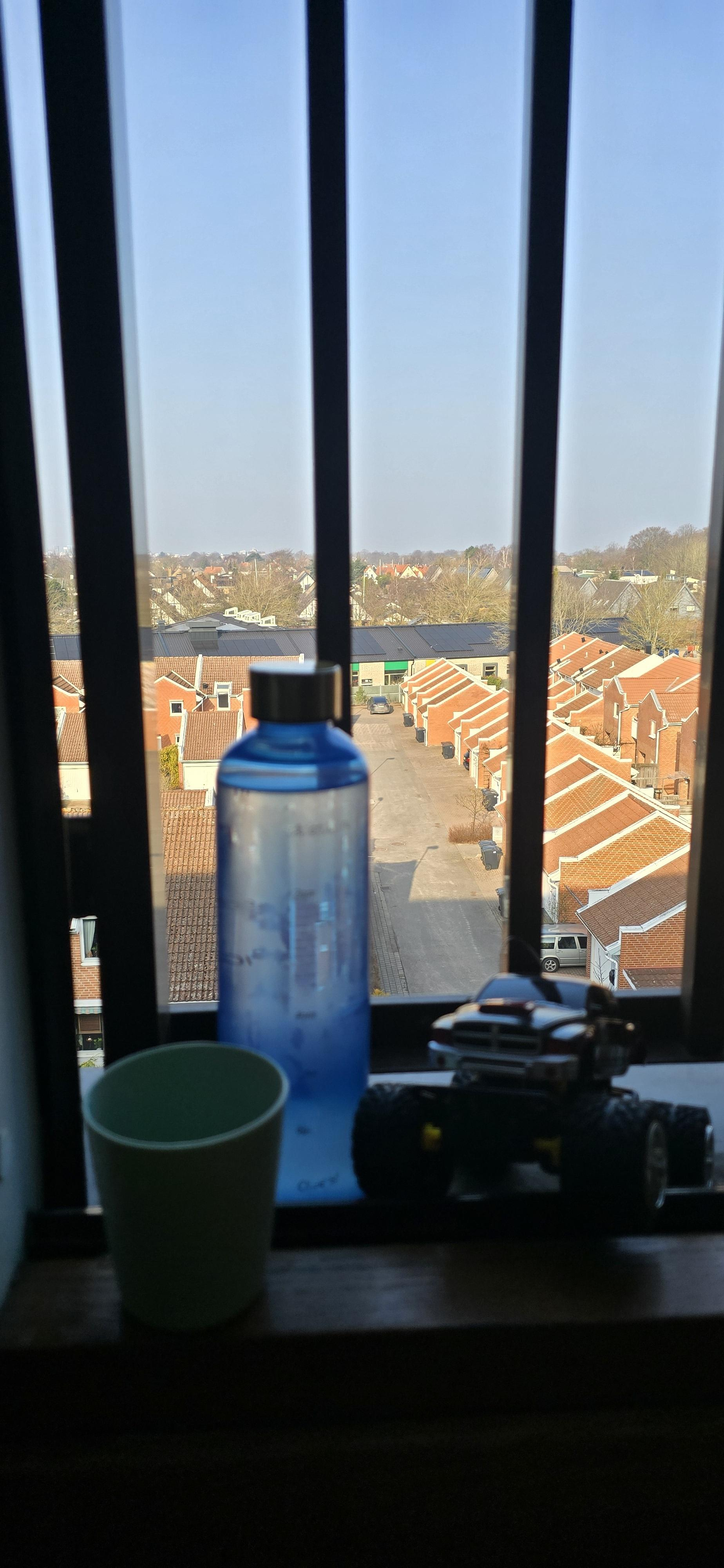bottle: (208, 648, 392, 1063)
